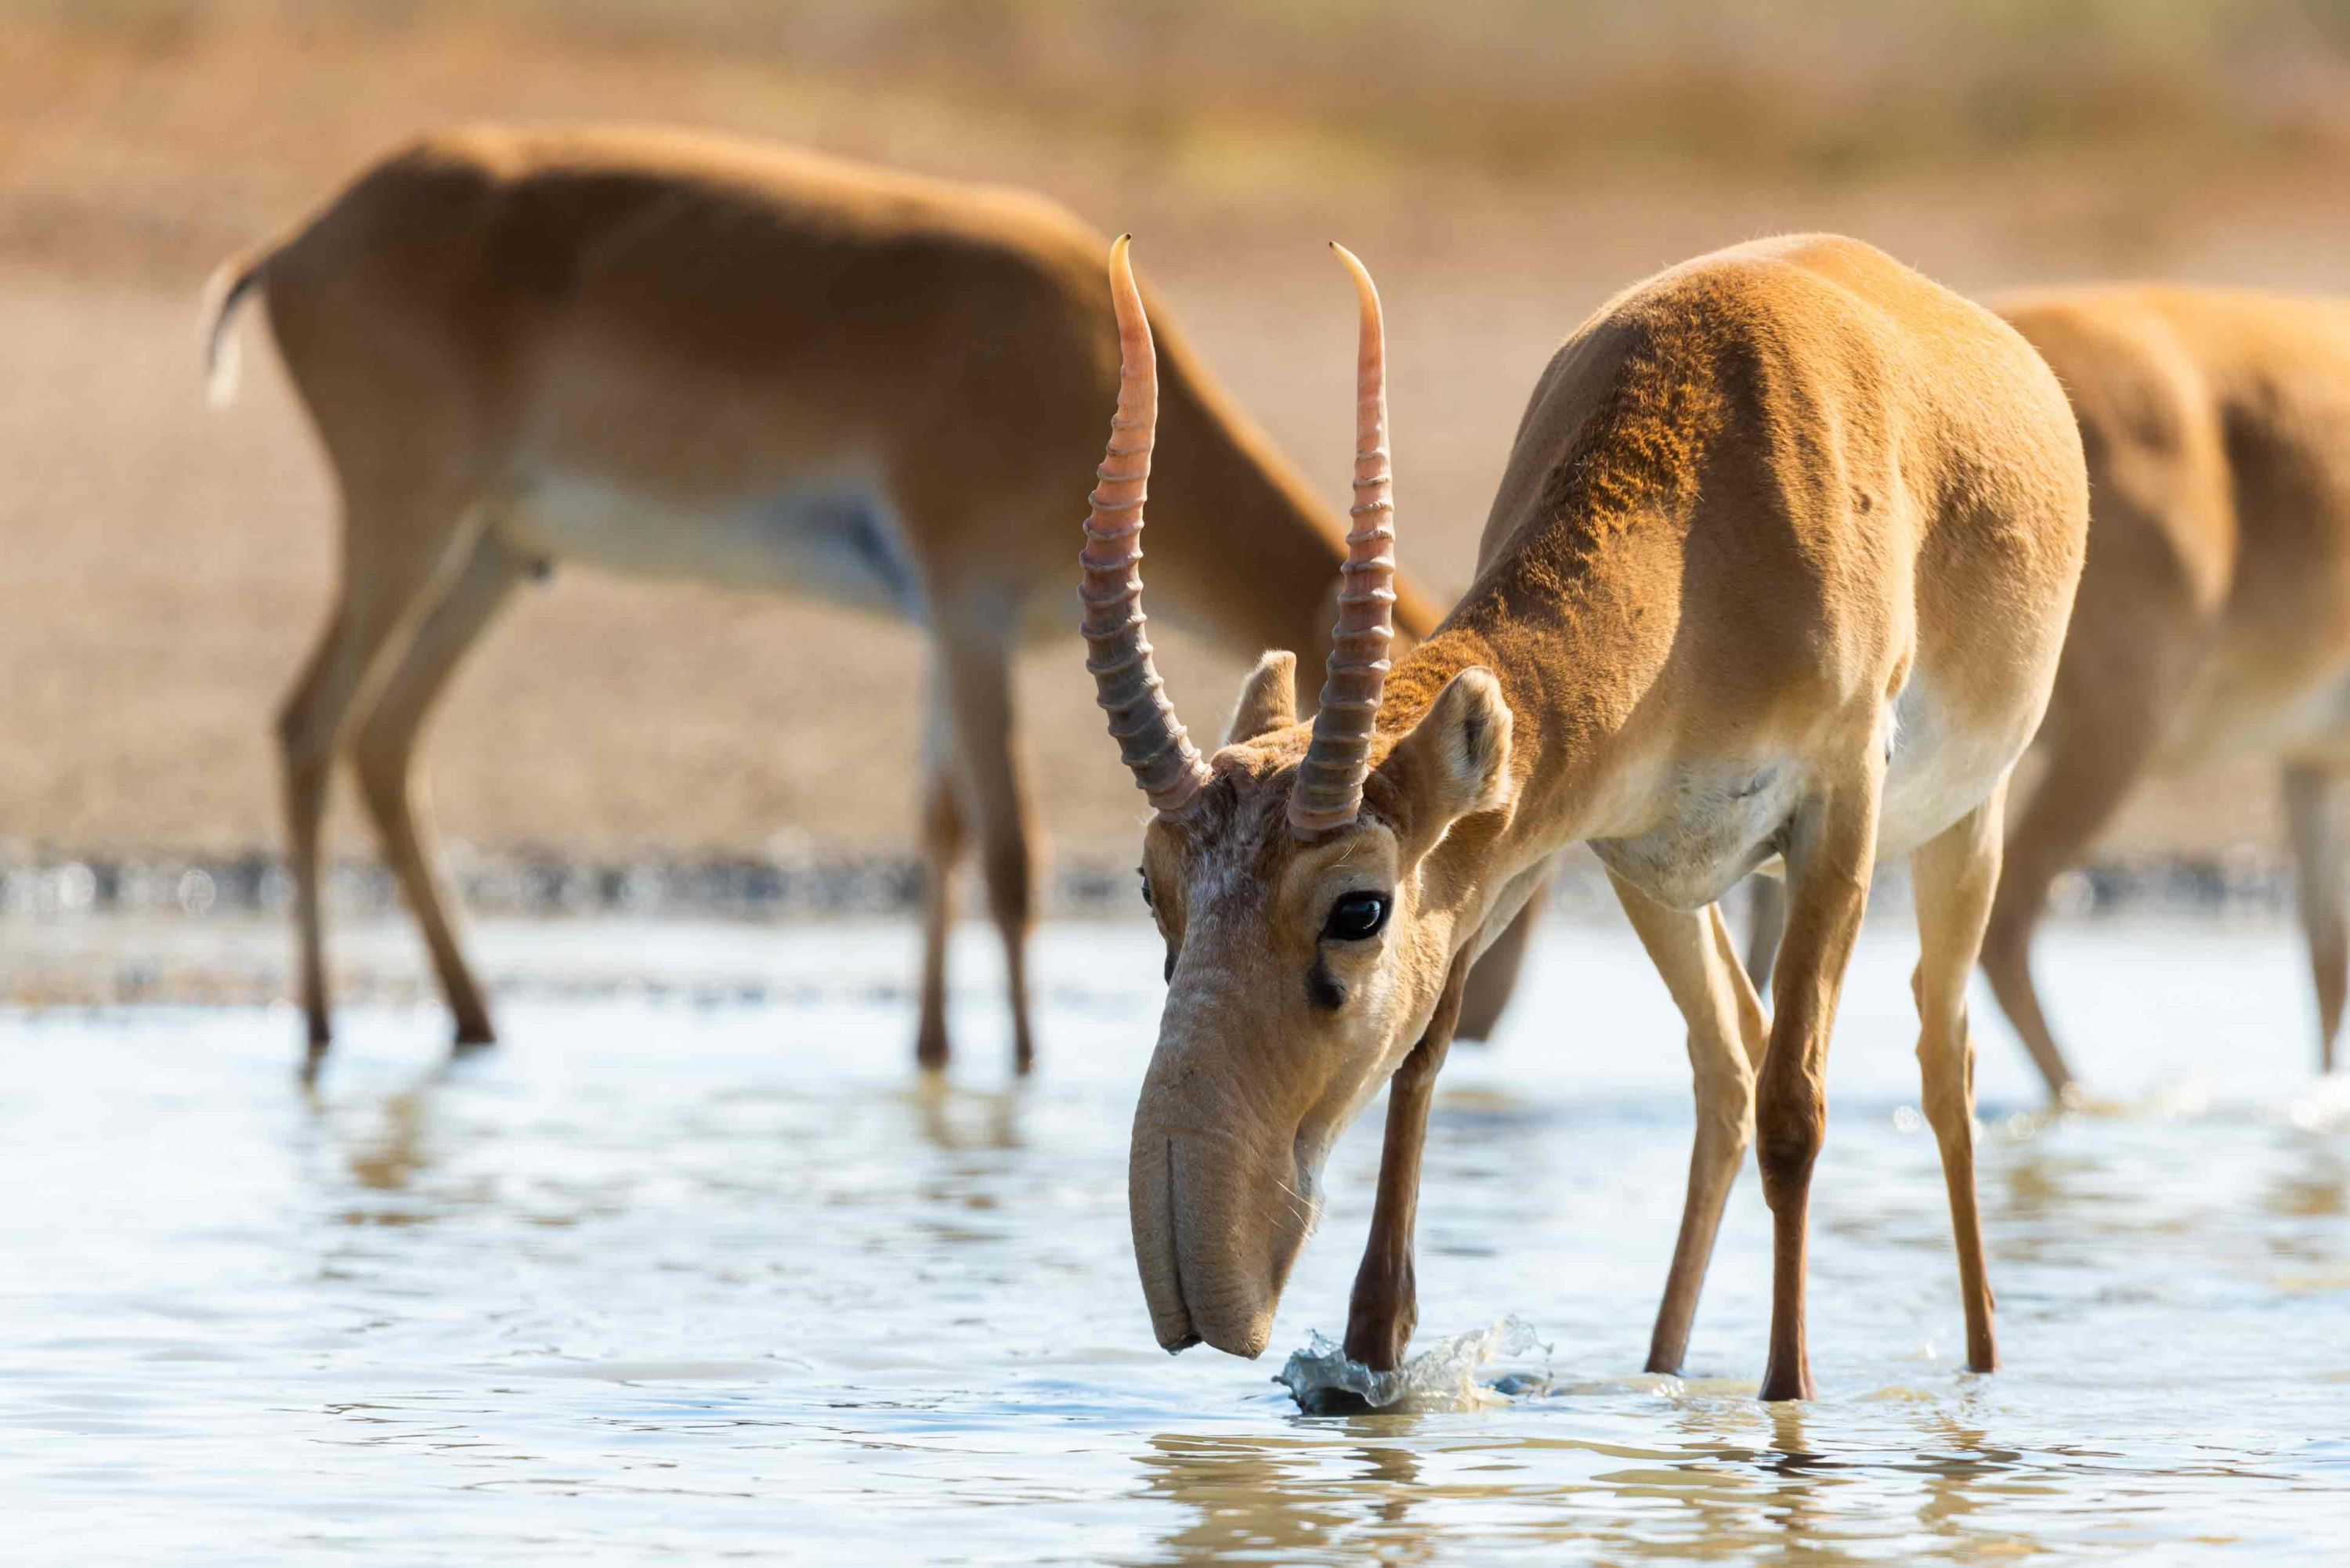saiga: (1092, 220, 2102, 1440)
